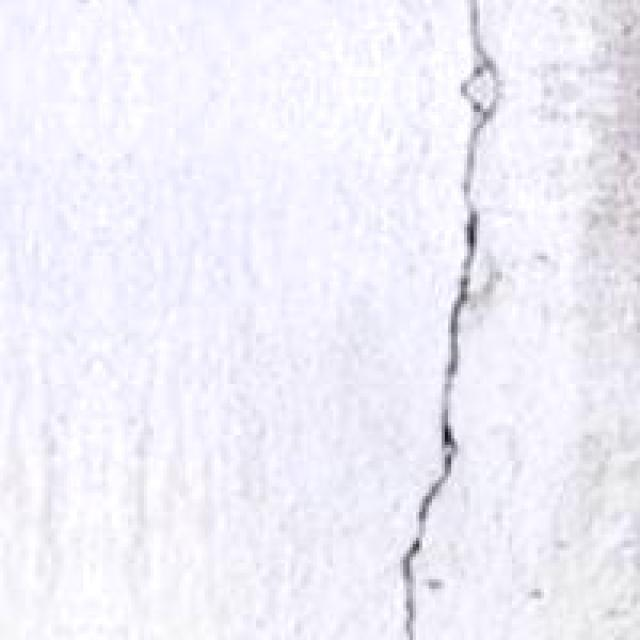crack: (370, 0, 554, 640)
